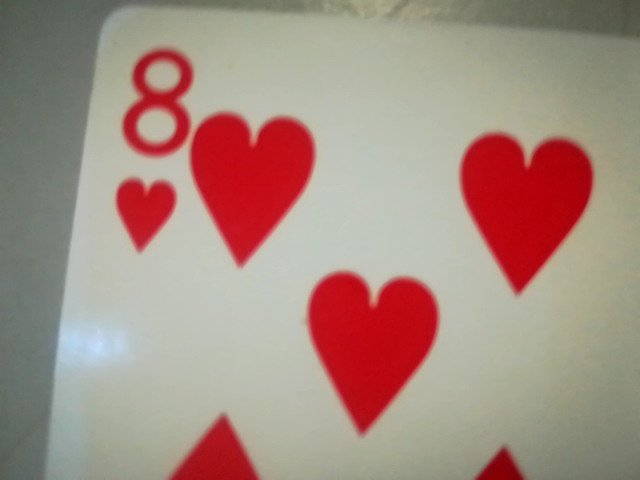hx 8: (102, 40, 200, 277)
